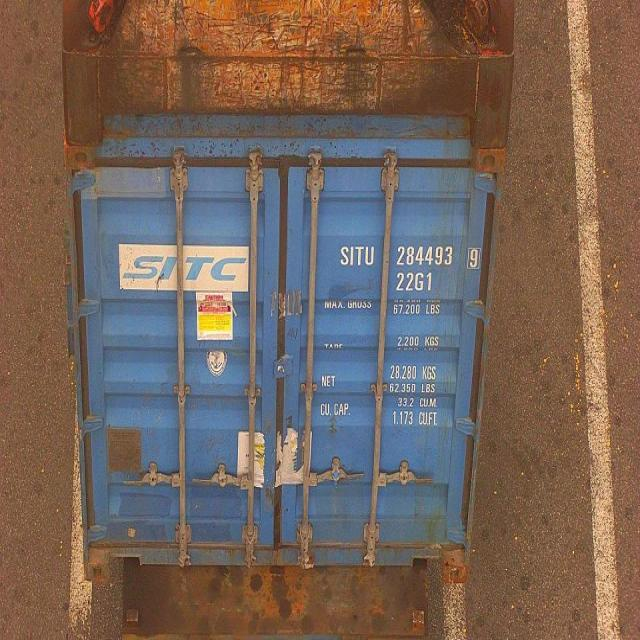ISO: (397, 273, 433, 293)
container_number: (337, 240, 482, 272)
